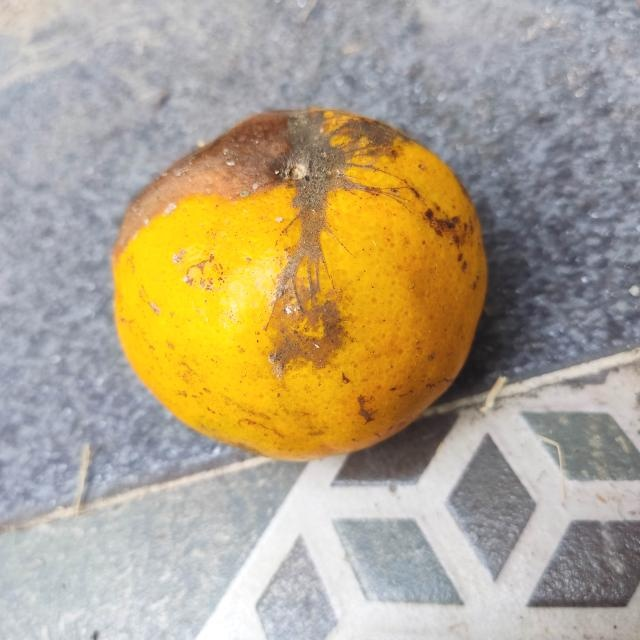agrume: (111, 104, 493, 460)
